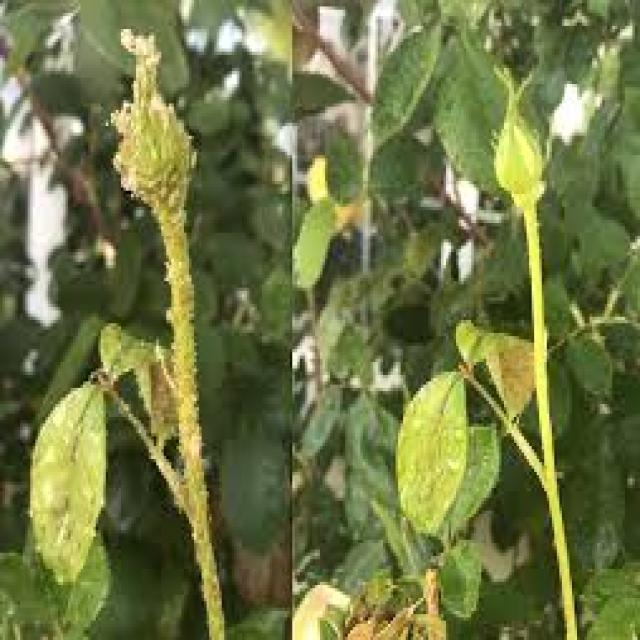aphid: (36, 543, 56, 572), (161, 184, 179, 210), (184, 142, 199, 168), (159, 300, 174, 326)
